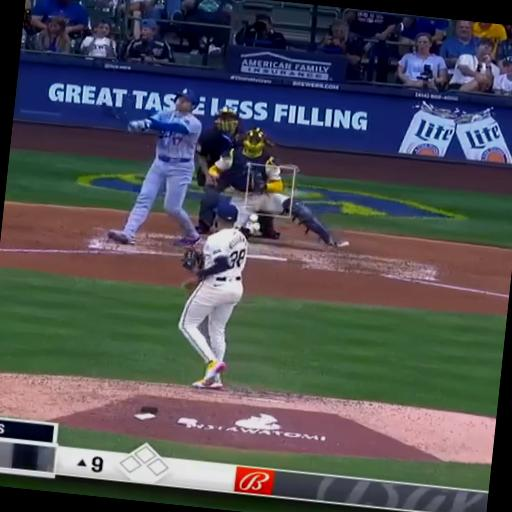bat: (105, 101, 144, 133)
